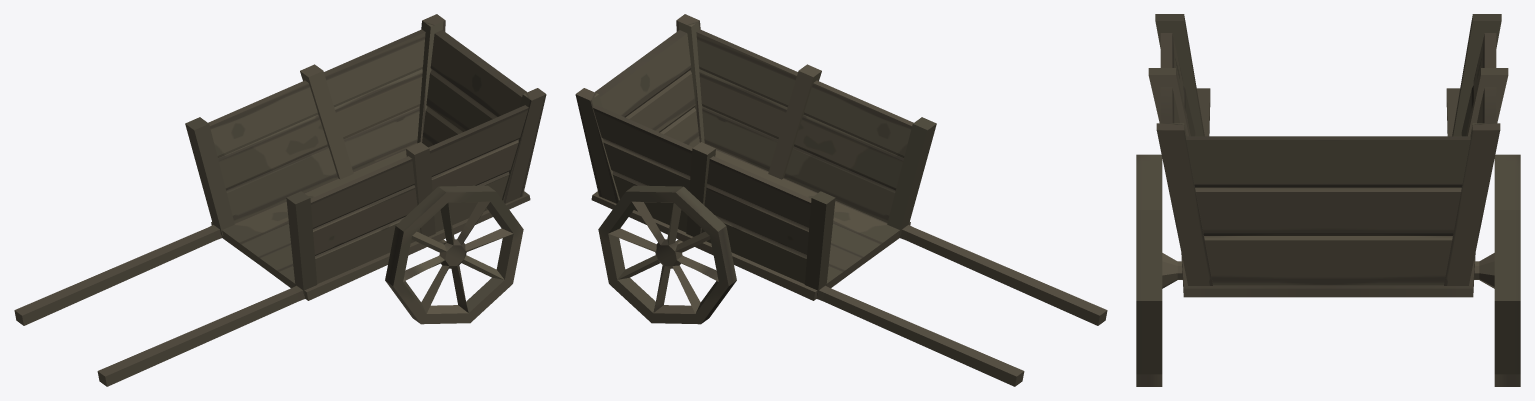
The model's file is Cart.fbx.
3 renders of one model, left to right at view 1: azimuth 30°, elevation 25°; view 2: azimuth 150°, elevation 25°; view 3: azimuth 270°, elevation 25°, orthographic. The views are drawn at different scales.
Visible parts, largest first — view 1: Cart Body, Cart; view 2: Cart Body, Cart; view 3: Cart Body, Cart.
Part boxes in pixels (x1=…): Cart Body: x1=14, y1=14, x2=546, y2=386; Cart: x1=385, y1=185, x2=523, y2=324; Cart Body: x1=575, y1=14, x2=1107, y2=386; Cart: x1=598, y1=185, x2=736, y2=324; Cart Body: x1=1148, y1=14, x2=1508, y2=297; Cart: x1=1136, y1=154, x2=1520, y2=386.
Bounding box in the file's own units: 768 × 347 × 378.
